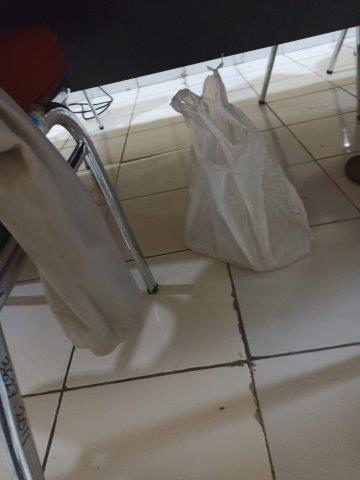plastik: (172, 76, 315, 270)
